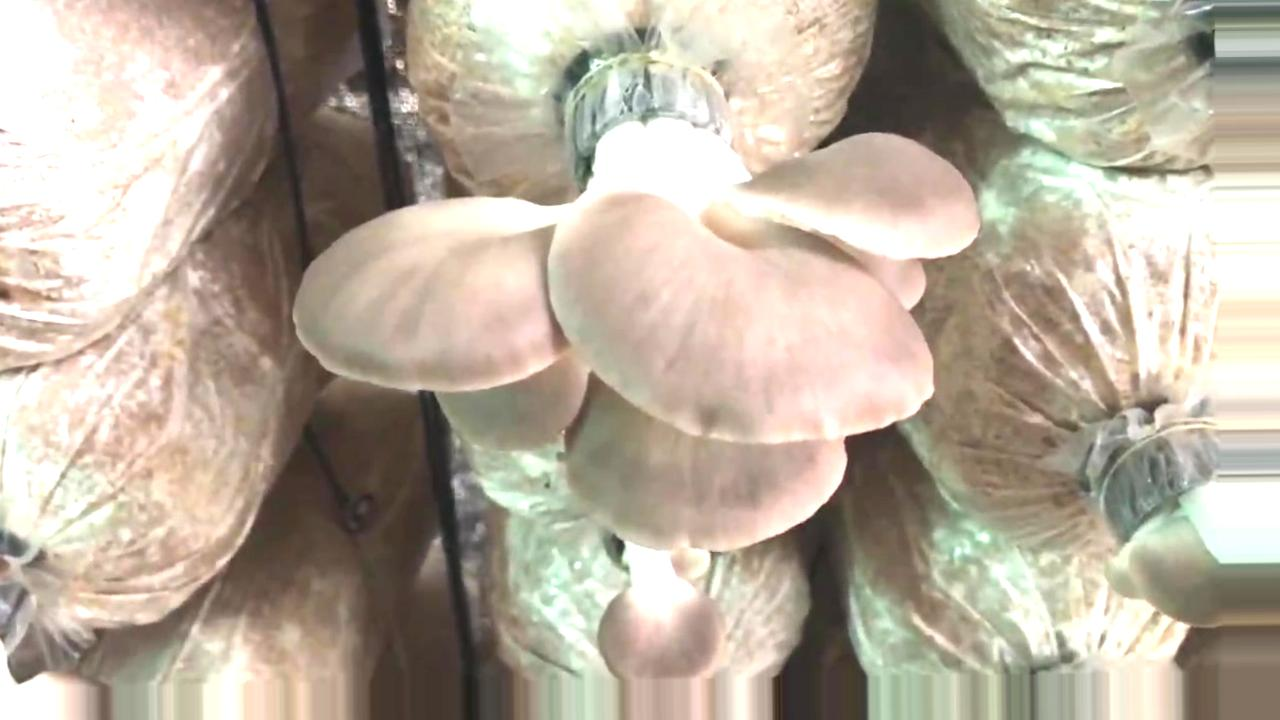nam: (292, 52, 980, 550), (1107, 432, 1280, 625), (598, 535, 723, 720)
